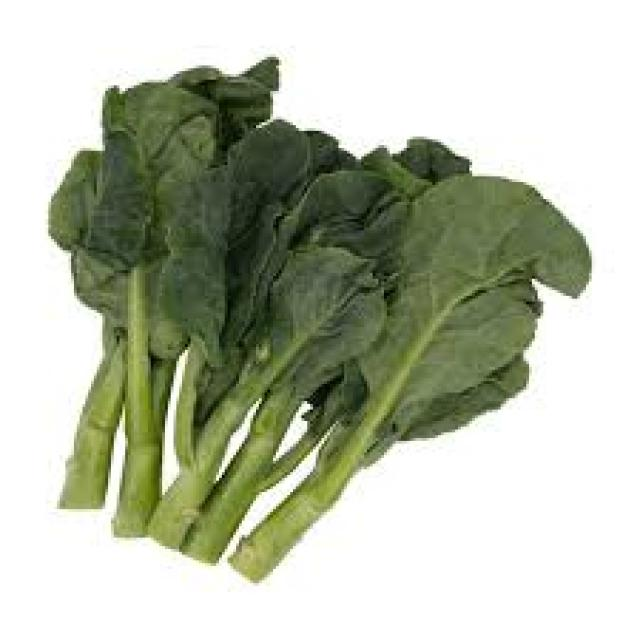collard: (56, 54, 591, 586)
